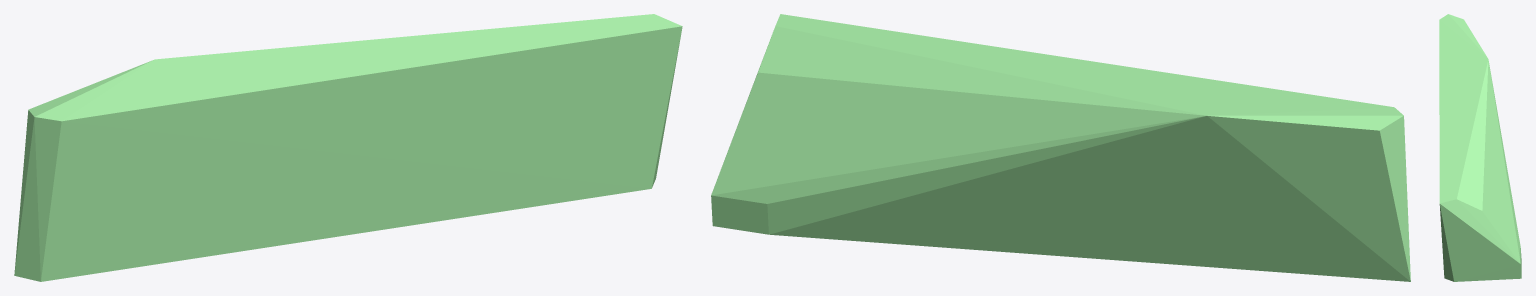
File: UMIRobot_UMIRobot_link_5_convex_coll_66.dae
The picture shows the model from 3 angles, left to right: view 1: azimuth 30°, elevation 25°; view 2: azimuth 150°, elevation 25°; view 3: azimuth 270°, elevation 25°; orthographic projection. The views are drawn at different scales.
Visible parts, largest first — view 1: node; view 2: node; view 3: node.
Boxes of the visible parts, bbox=[...] form: node: bbox=[14, 14, 682, 281]; node: bbox=[711, 14, 1410, 281]; node: bbox=[1439, 14, 1521, 281].
Size of the model in its own units: 0.0228 by 0.00732 by 0.00489.
